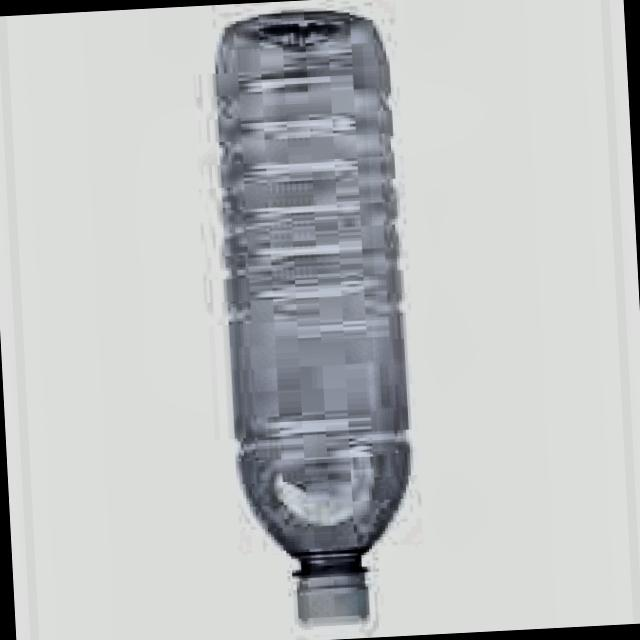plastic bottle: (216, 15, 410, 594)
